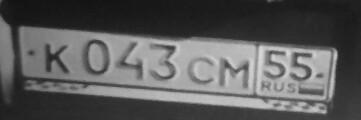license-plateSW: (18, 22, 337, 103)
